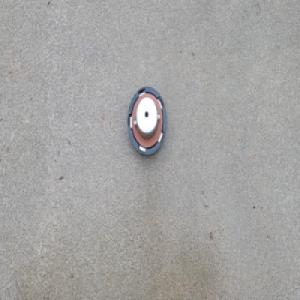FuelCap: (125, 84, 167, 159)
